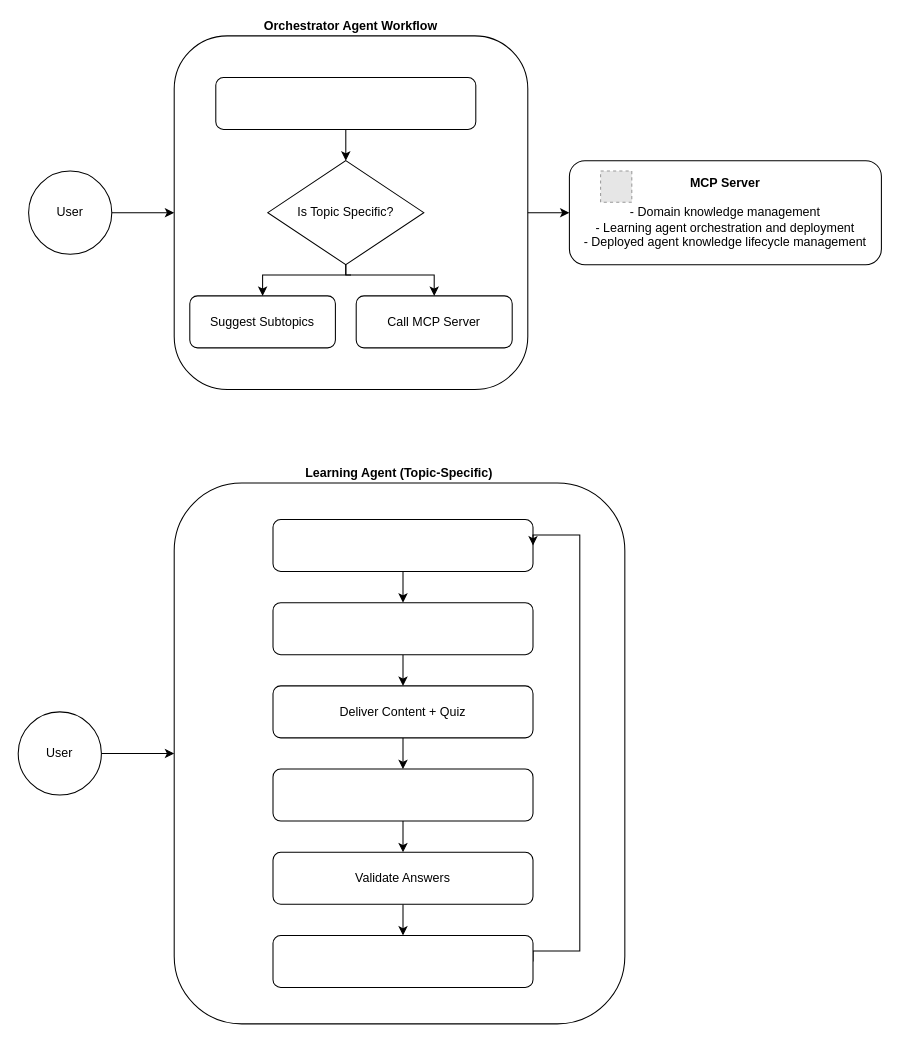
This 900x1042 diagram has some shape labels left out. Grey dashed boxes stand in for pictures. Here are the shapes that lost their labels. From the top down, the centre of each, then its label:
(345,102): User Provides Topic
(402,544): Generate Study Content
(402,628): Generate Quiz
(402,794): Receive User Answers
(402,960): Improve Content & Update Learning Plan
